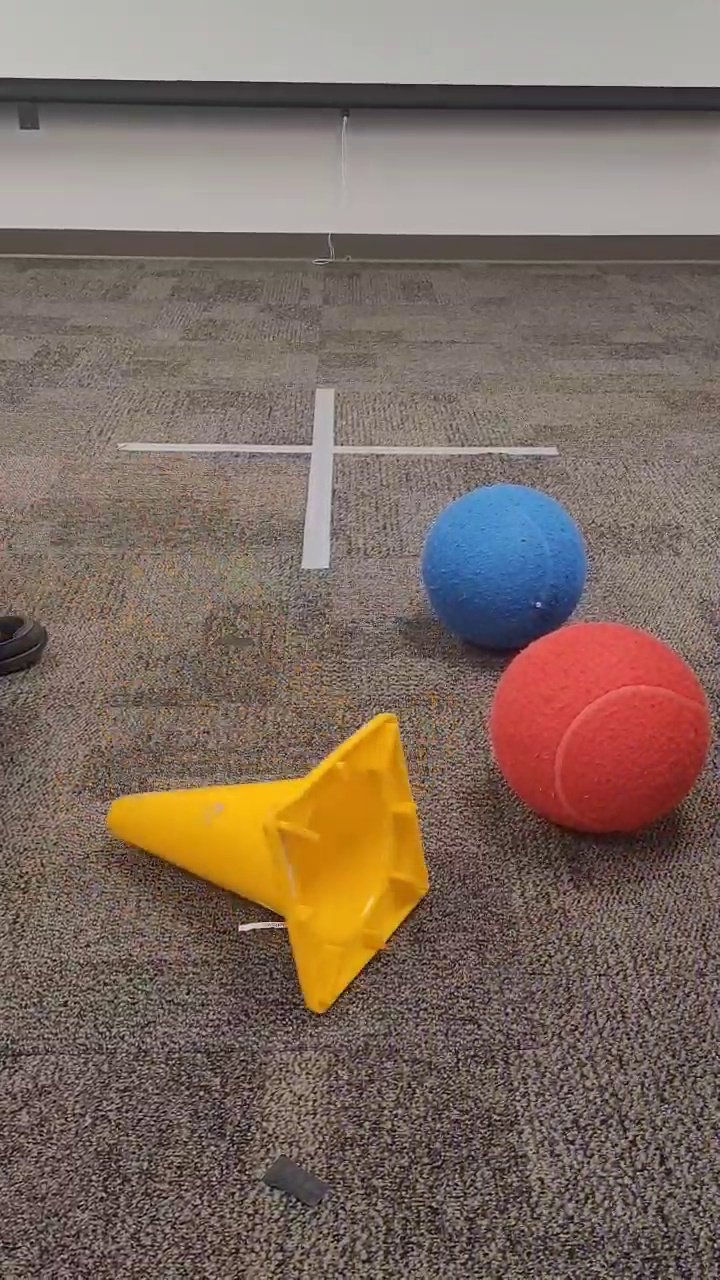ball: (486, 617, 712, 841), (420, 478, 589, 650)
cone: (99, 707, 436, 1016)
foot: (1, 607, 52, 683)
